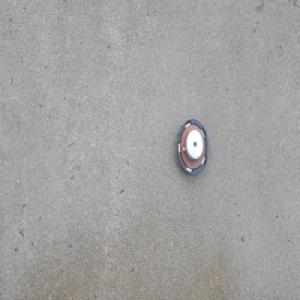FuelCap: (174, 118, 208, 178)
